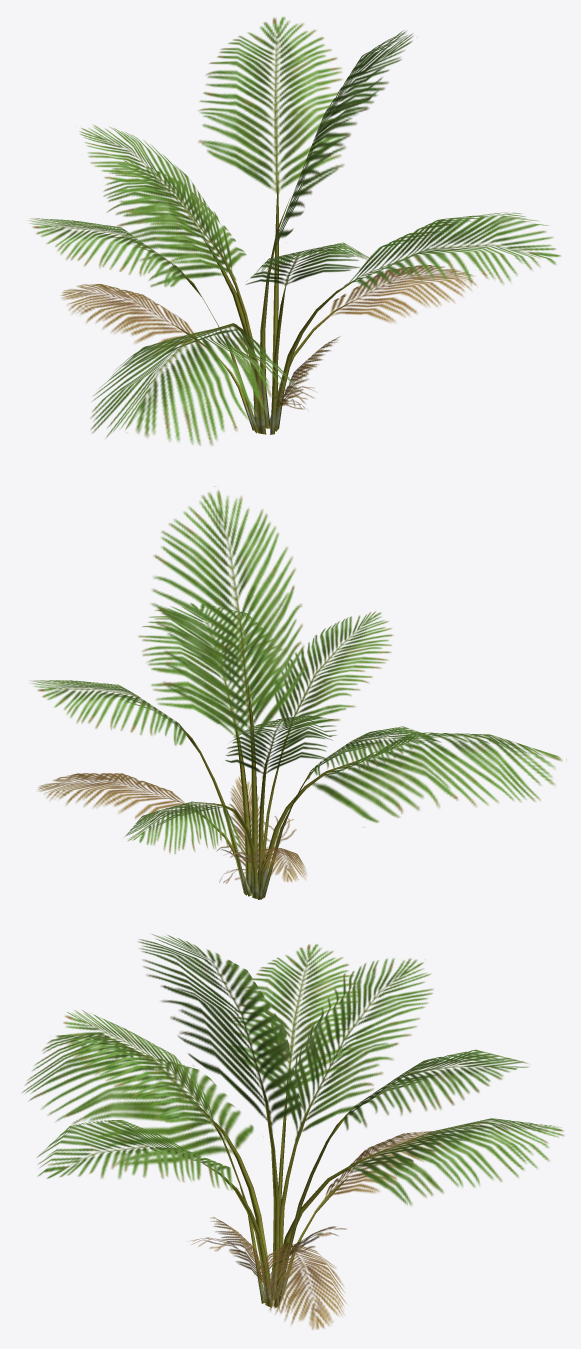
Rendered from plant5.glb.
The picture shows the model from 3 angles, top to bottom: view 1: azimuth 30°, elevation 25°; view 2: azimuth 150°, elevation 25°; view 3: azimuth 270°, elevation 25°; orthographic projection. The views are drawn at different scales.
Size of the model in its own units: 4.34 by 3.39 by 4.05.
Materials: 1 (1 with a texture image).
